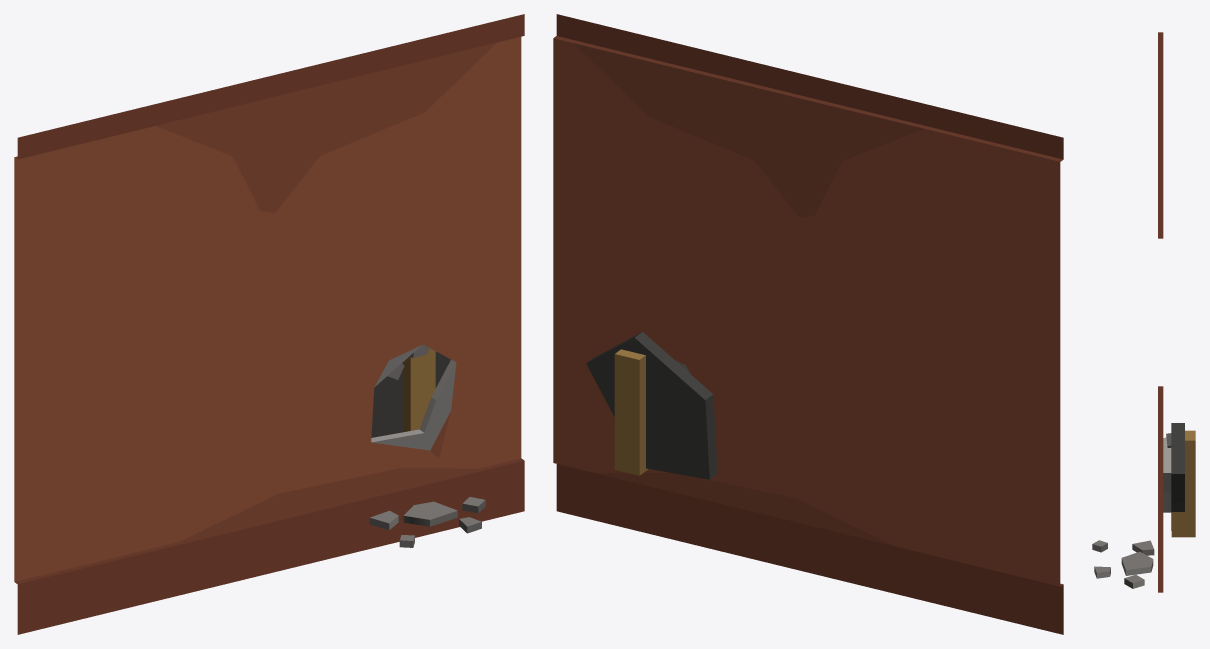
The model's file is AI_Env_Wall_Red_Hole_Small.fbx.
3 views of the same model, side by side, from view 1: azimuth 30°, elevation 25°; view 2: azimuth 150°, elevation 25°; view 3: azimuth 270°, elevation 25° (orthographic). The views are drawn at different scales.
Parts seen in each view (by area): view 1: AI_Env_Wall_Red_Hole_Small; view 2: AI_Env_Wall_Red_Hole_Small; view 3: AI_Env_Wall_Red_Hole_Small.
Part boxes in pixels (x1,y1,x2,y2): AI_Env_Wall_Red_Hole_Small: (14,14,524,634); AI_Env_Wall_Red_Hole_Small: (553,14,1063,634); AI_Env_Wall_Red_Hole_Small: (1092,32,1195,592).
Size of the model in its own units: 5 by 4.69 by 1.06.
